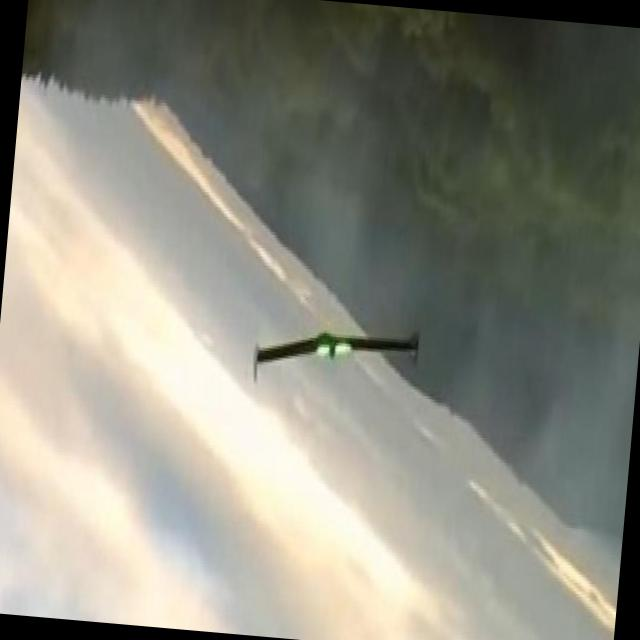UAV: (236, 250, 438, 403)
